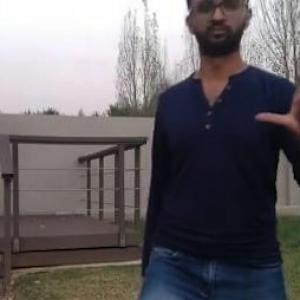land_hand: (251, 46, 299, 148)
